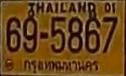5: (50, 16, 65, 52)
6: (84, 16, 100, 52), (6, 16, 20, 51)
7: (102, 16, 117, 53)
8: (67, 16, 82, 52)
9: (22, 15, 36, 52)
BKK: (22, 57, 102, 74)
